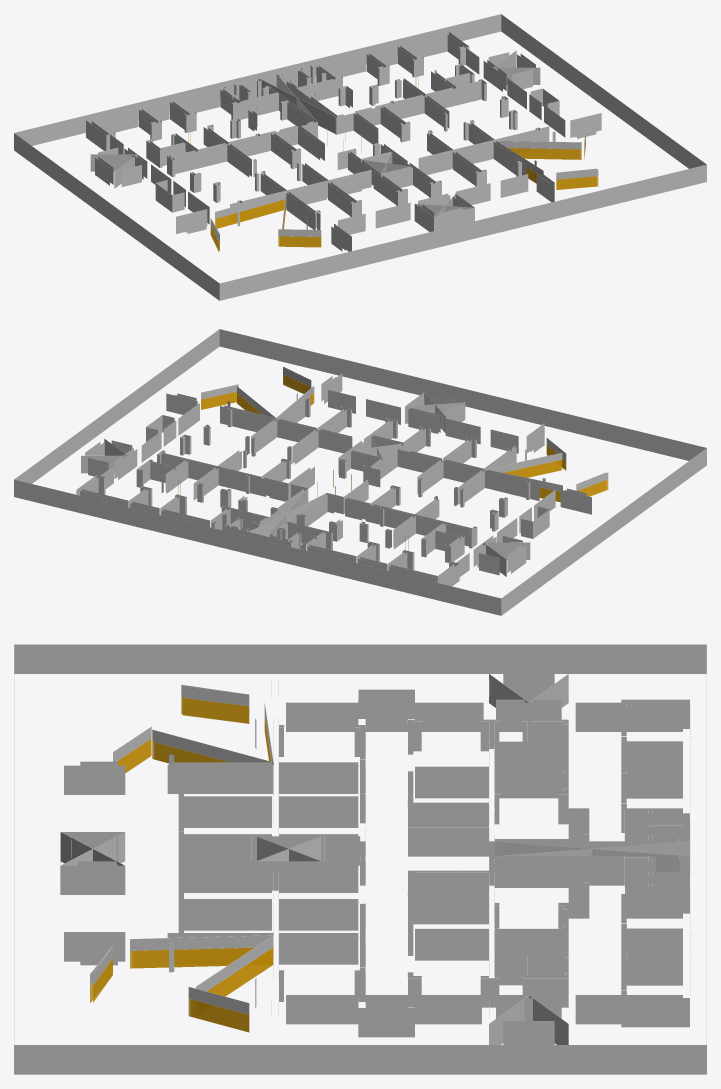
The model's file is 7b9efa35-6a3e-42bf-ae84-6c0f883a3849_no_roof.glb.
3 renders of one model, top to bottom at view 1: azimuth 30°, elevation 25°; view 2: azimuth 150°, elevation 25°; view 3: azimuth 270°, elevation 25°, orthographic. The views are drawn at different scales.
Parts seen in each view (by area): view 1: walls, doors; view 2: walls, doors; view 3: walls, doors.
Part boxes in pixels (left/top/right/bottom): walls: left=14, top=14, right=706, bottom=300; doors: left=188, top=81, right=598, bottom=251; walls: left=14, top=329, right=706, bottom=615; doors: left=178, top=374, right=608, bottom=550; walls: left=14, top=644, right=706, bottom=1074; doors: left=90, top=696, right=273, bottom=1032.
Size of the model in its own units: 102 by 3.5 by 74.79.
